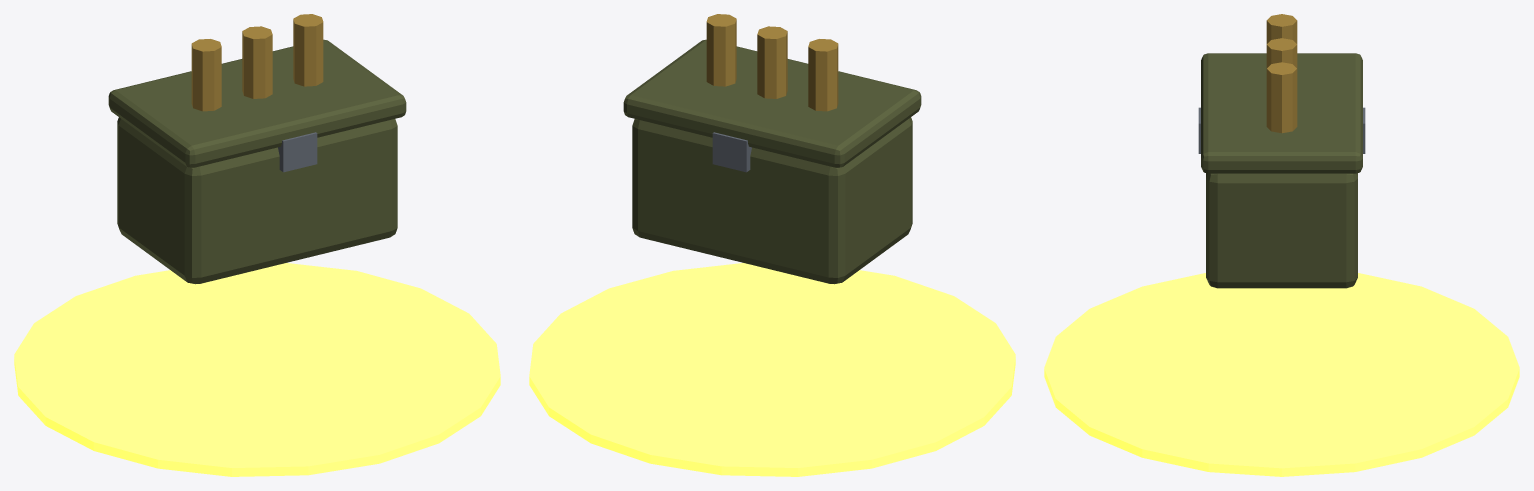
Rendered from item_ammo.glb.
The picture shows the model from 3 angles, left to right: view 1: azimuth 30°, elevation 25°; view 2: azimuth 150°, elevation 25°; view 3: azimuth 270°, elevation 25°; orthographic projection. The views are drawn at different scales.
Visible parts, largest first — view 1: Halo, Crate, Lid, Round_2, Round_1, Round_0, Latch; view 2: Halo, Crate, Lid, Round_2, Round_1, Round_0, Latch; view 3: Halo, Crate, Lid, Round_2, Round_1, Round_0.
Part boxes in pixels (x1=…): Halo: x1=14, y1=263, x2=500, y2=476; Crate: x1=117, y1=117, x2=397, y2=284; Lid: x1=108, y1=39, x2=406, y2=167; Round_2: x1=293, y1=14, x2=323, y2=86; Round_1: x1=242, y1=26, x2=272, y2=98; Round_0: x1=191, y1=39, x2=221, y2=111; Latch: x1=278, y1=132, x2=317, y2=172; Halo: x1=529, y1=263, x2=1015, y2=476; Crate: x1=632, y1=117, x2=912, y2=284; Lid: x1=623, y1=39, x2=921, y2=167; Round_2: x1=706, y1=14, x2=736, y2=86; Round_1: x1=757, y1=26, x2=787, y2=98; Round_0: x1=808, y1=39, x2=838, y2=111; Latch: x1=712, y1=132, x2=751, y2=172; Halo: x1=1044, y1=273, x2=1519, y2=476; Crate: x1=1206, y1=173, x2=1357, y2=288; Lid: x1=1201, y1=53, x2=1362, y2=173; Round_2: x1=1266, y1=62, x2=1297, y2=133; Round_1: x1=1266, y1=38, x2=1297, y2=68; Round_0: x1=1266, y1=14, x2=1297, y2=43.
Bounding box in the file's own units: 1 × 0.77 × 1.
